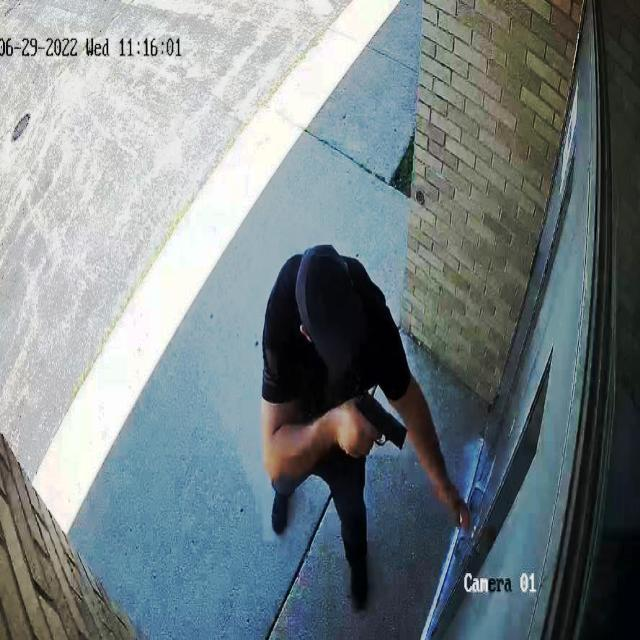Gun: (338, 388, 414, 460)
